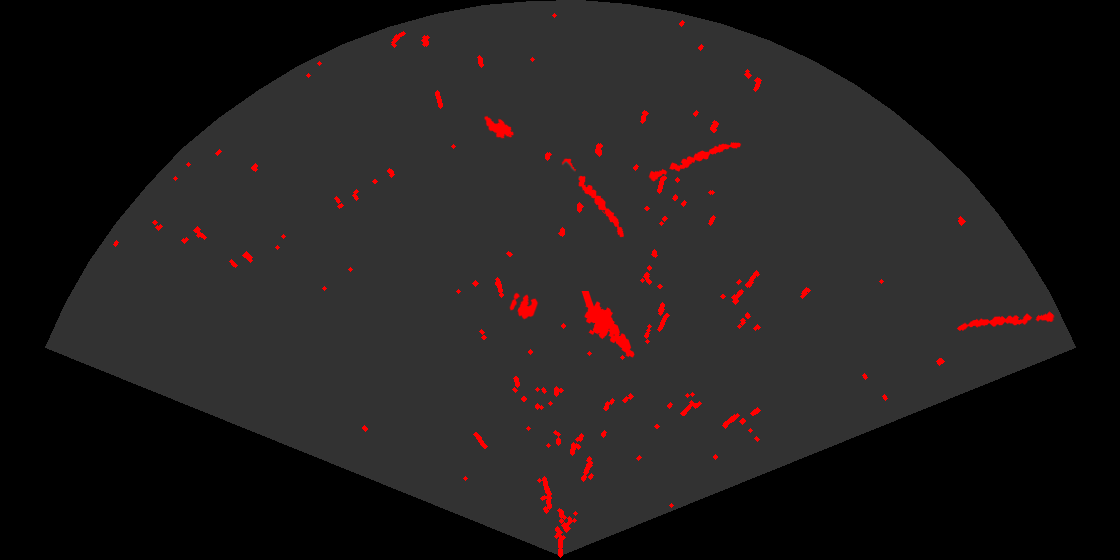AUV: (482, 114, 516, 140)
ball: (508, 291, 540, 321)
chain: (560, 157, 626, 239), (647, 141, 743, 183), (955, 310, 1055, 332)
frogman: (580, 291, 636, 359)
